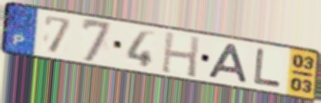4: (124, 28, 156, 70)
7: (80, 17, 114, 65), (42, 14, 73, 55)
A: (206, 42, 251, 85)
H: (159, 30, 202, 79)
L: (252, 46, 283, 90)
